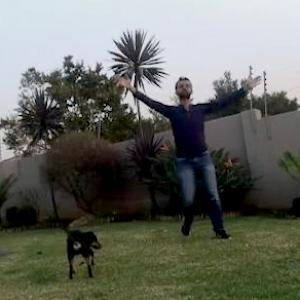takeoff: (124, 81, 248, 232)
